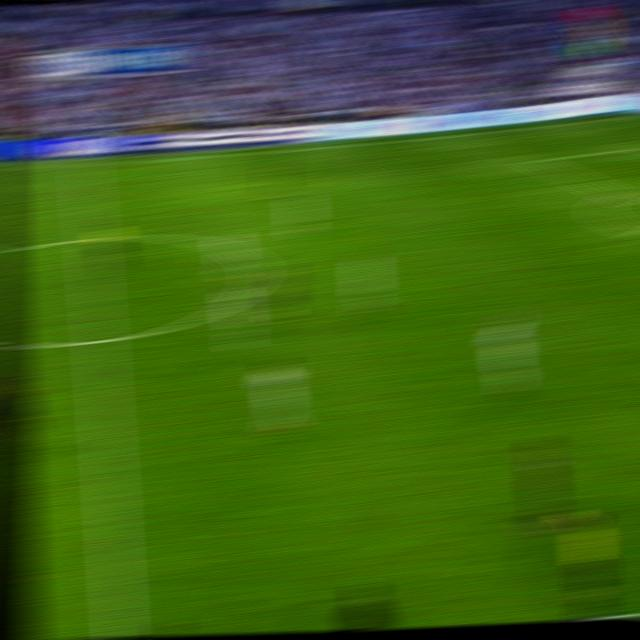corner: (622, 108, 640, 119)
halfcircle_bottom: (85, 326, 114, 354)
halfcircle_top: (78, 228, 104, 248)
midline_top_intersection: (74, 158, 95, 169)
top_arc_area_intersection: (600, 184, 624, 199)
